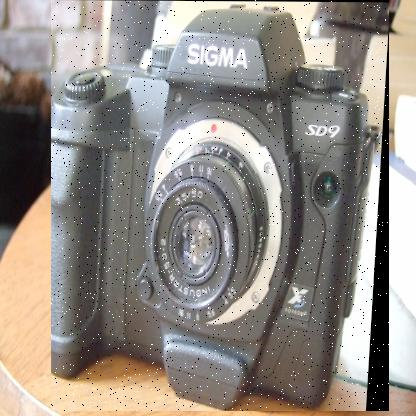Camera: (52, 1, 391, 413)
